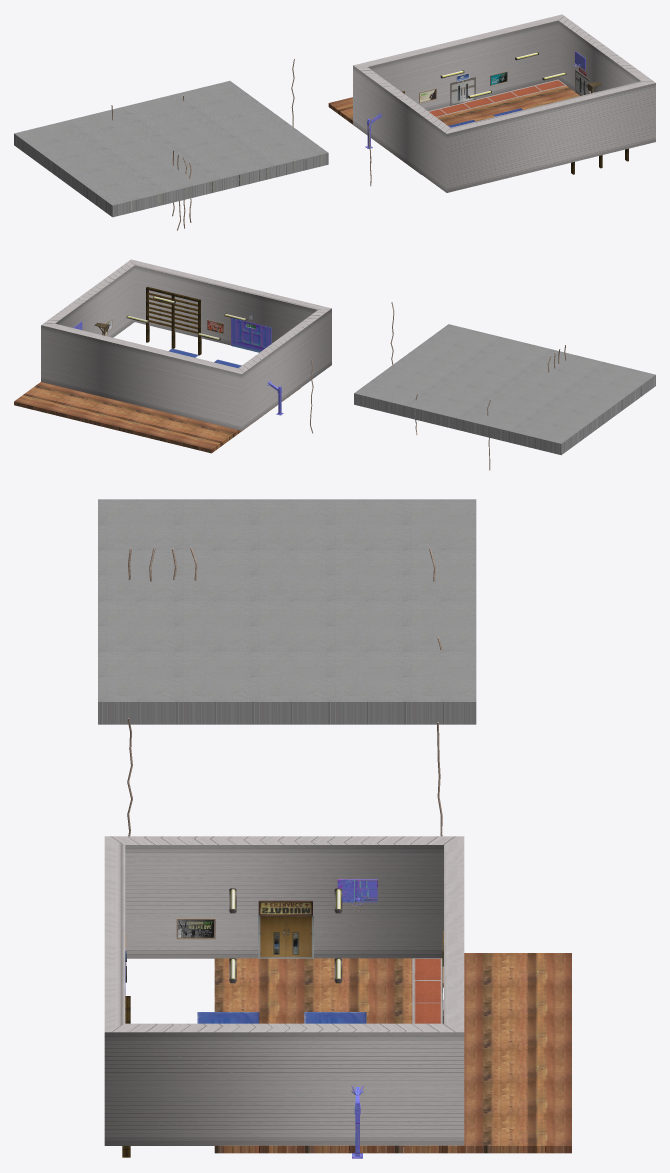
Rendered from Gym.glb.
3 views of the same model, one above another, from view 1: azimuth 30°, elevation 25°; view 2: azimuth 150°, elevation 25°; view 3: azimuth 270°, elevation 25° (orthographic). The views are drawn at different scales.
Visible parts, largest first — view 1: Gym; view 2: Gym; view 3: Gym.
Boxes of the visible parts, x1,y1,x2,y2 form: Gym: (14,14,655,230); Gym: (14,259,655,470); Gym: (98,499,571,1158).
Size of the model in its own units: 492 by 87.91 by 188.
26 materials, 25 textured.
